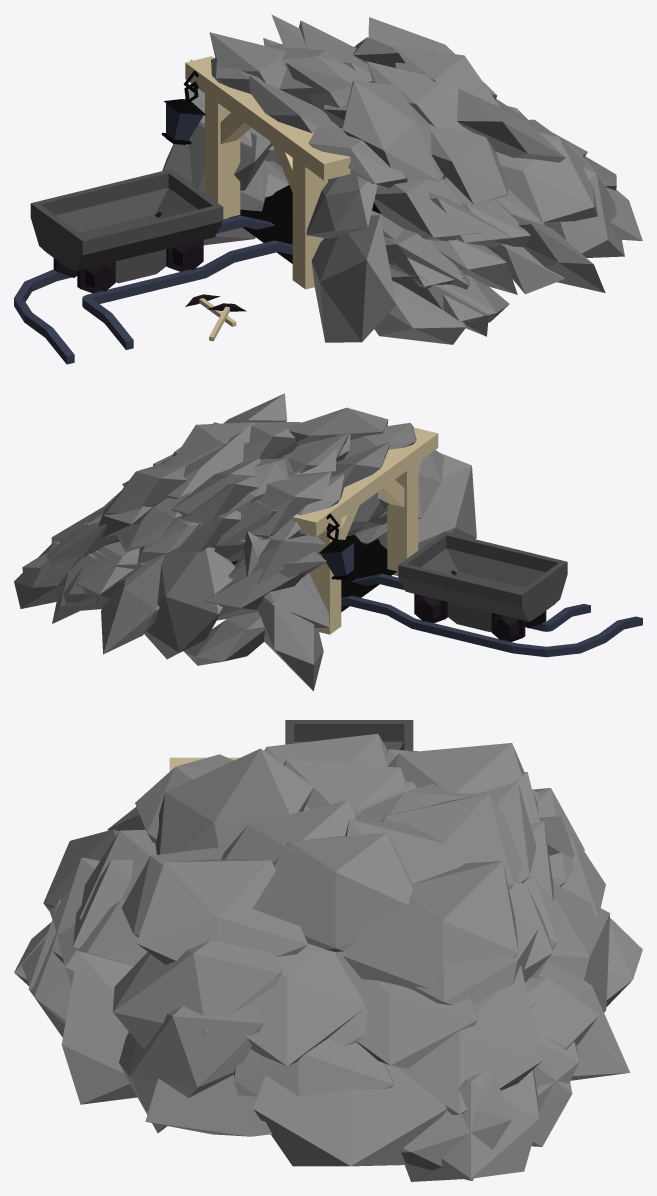
The model's file is Mine.fbx.
3 views of the same model, one above another, from view 1: azimuth 30°, elevation 25°; view 2: azimuth 150°, elevation 25°; view 3: azimuth 270°, elevation 25° (orthographic). The views are drawn at different scales.
Parts seen in each view (by area): view 1: Mine; view 2: Mine; view 3: Mine.
Part boxes in pixels (left/top/right/bottom): Mine: left=14, top=14, right=642, bottom=364; Mine: left=14, top=393, right=642, bottom=690; Mine: left=14, top=720, right=642, bottom=1181.
Bounding box in the file's own units: 10.25 × 3.67 × 7.43.
